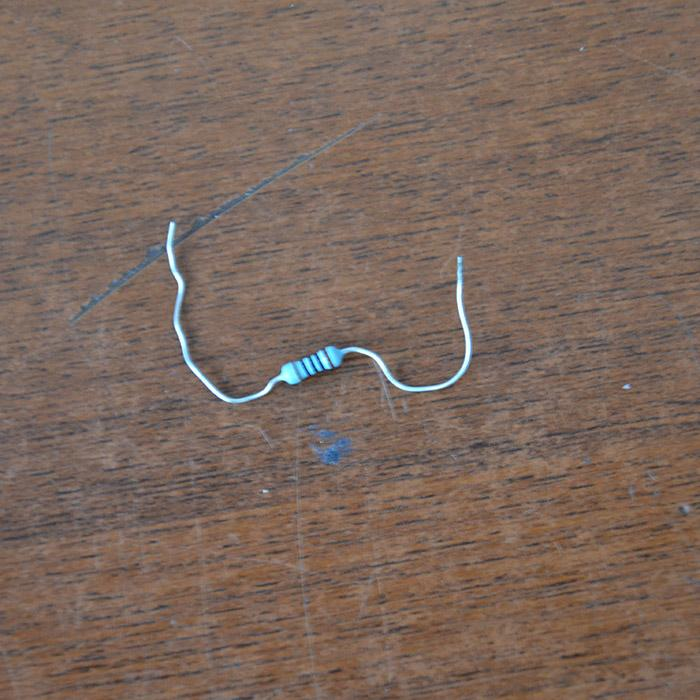resistor: (278, 345, 344, 386)
